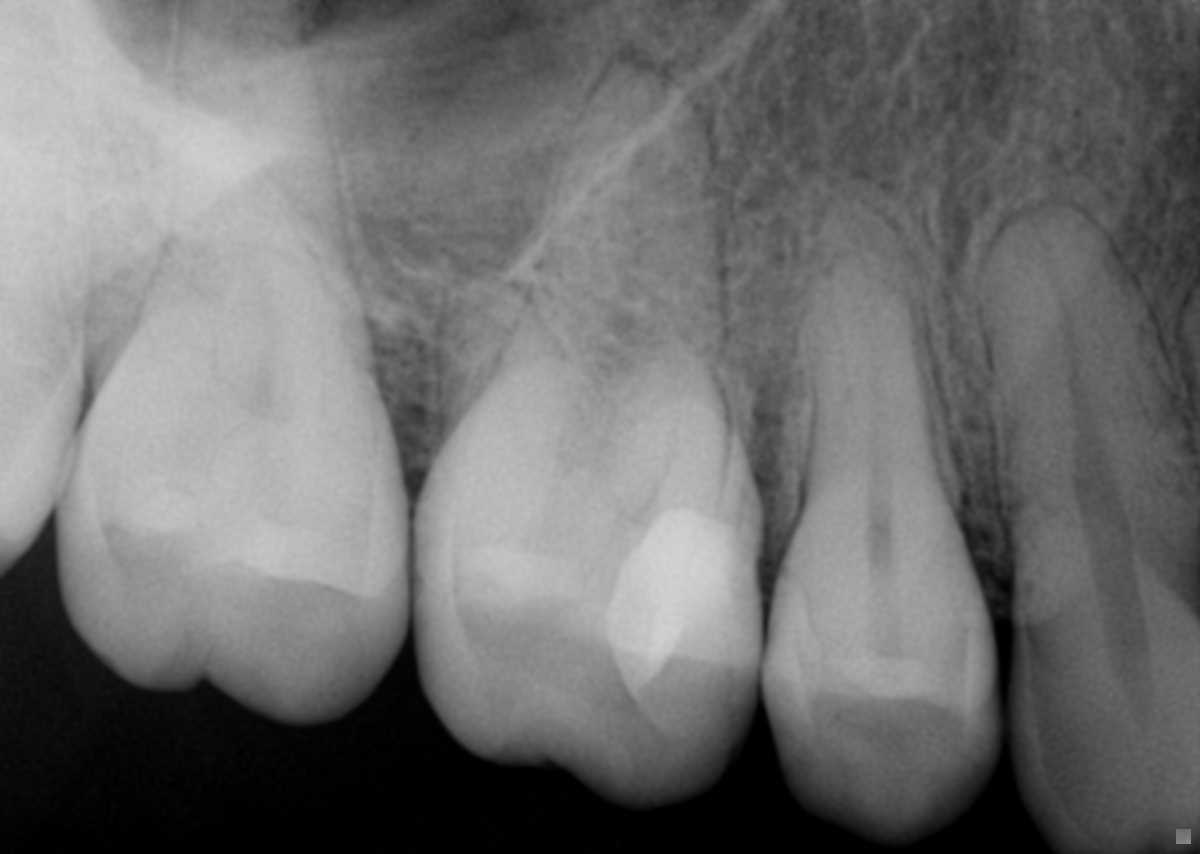Apical Lesion: (608, 39, 717, 113)
Main Canal: (1029, 219, 1140, 580), (860, 289, 898, 555)
Main Root: (980, 204, 1200, 600), (788, 183, 952, 558), (436, 266, 594, 506)
Mesial Canal: (630, 417, 679, 519)
Mesial Root: (580, 324, 724, 538)
Palatal Root: (132, 0, 393, 428), (484, 62, 733, 455)
